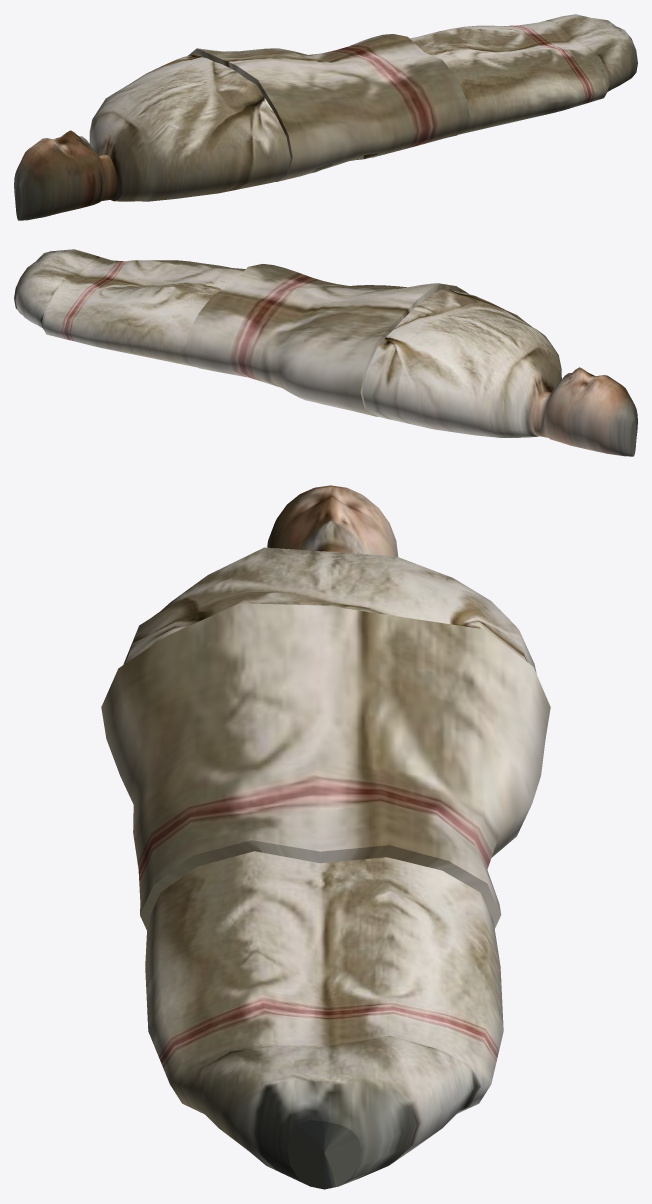
Rendered from arif.glb.
3 views of the same model, one above another, from view 1: azimuth 30°, elevation 25°; view 2: azimuth 150°, elevation 25°; view 3: azimuth 270°, elevation 25° (orthographic). The views are drawn at different scales.
Parts seen in each view (by area): view 1: arif, pestemal; view 2: arif, pestemal; view 3: arif, pestemal.
Boxes of the visible parts, x1,y1,x2,y2 form: arif: [14, 14, 637, 220]; pestemal: [188, 34, 469, 181]; arif: [14, 249, 637, 456]; pestemal: [185, 264, 468, 416]; arif: [123, 485, 536, 1189]; pestemal: [101, 603, 550, 929].
Bounding box in the file's own units: 1.93 × 0.3167 × 0.6207.
2 materials, 2 textured.
